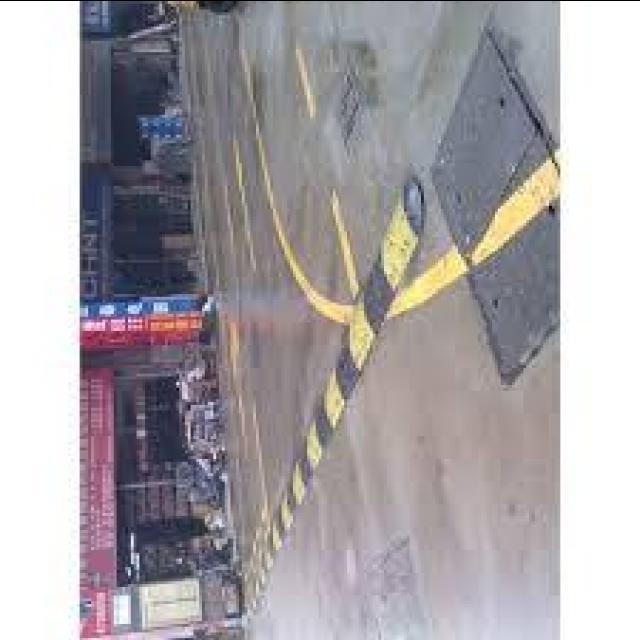speedbreaker: (234, 163, 438, 640)
